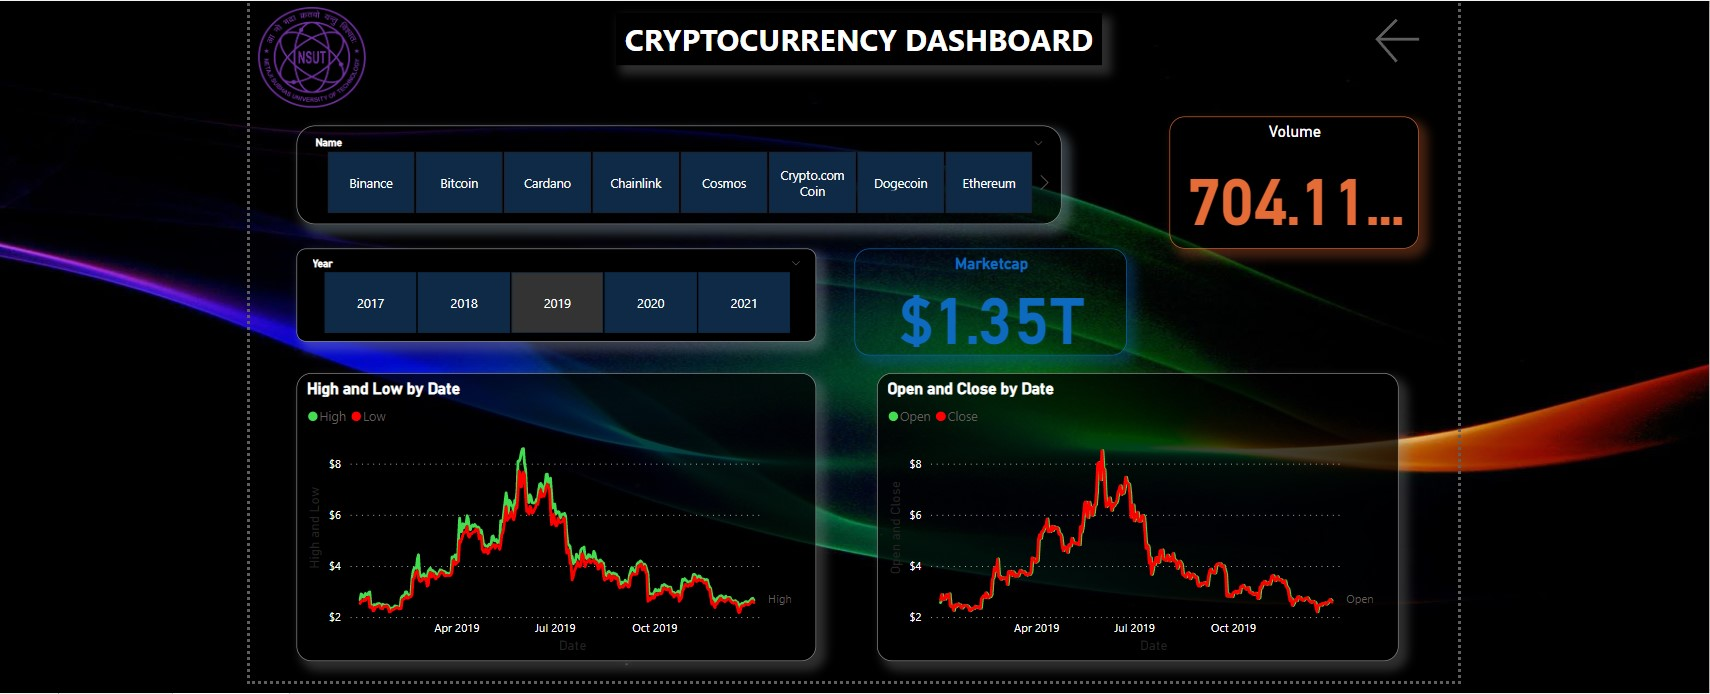

This screenshot's page, from the dashboard's own definition file:
{"tool":"powerbi","page":{"name":"Page 2","canvas":[1280,720],"ordinal":1},"visuals":[{"type":"slicer","fields":{"Values":["CryptoData.Name"]},"box":[49.3,131.9,810.6,104.9],"z":0},{"type":"slicer","fields":{"Values":["CryptoData.Year"]},"box":[50.1,262,550.7,98.5],"z":1000},{"type":"image","box":[0,0,131.9,119.2],"z":2000},{"type":"textbox","box":[387.8,12.7,515,55.6],"z":3000},{"type":"actionButton","box":[1187.3,12.7,58.8,58.8],"z":4000},{"type":"card","title":"Volume","fields":{"Values":["Sum(CryptoData.Volume)"]},"box":[974.6,121.8,263.7,140.2],"z":5000},{"type":"card","title":"Marketcap","fields":{"Values":["Sum(CryptoData.Marketcap)"]},"box":[640.8,262,288.7,113.5],"z":6000},{"type":"lineChart","fields":{"Category":["CryptoData.Date"],"Y":["Sum(CryptoData.High)","Sum(CryptoData.Low)"]},"box":[50.1,393.8,550.7,305.4],"z":7000},{"type":"lineChart","fields":{"Category":["CryptoData.Date"],"Y":["Sum(CryptoData.Open)","Sum(CryptoData.Close)"]},"box":[664.2,393.8,552.4,305.4],"z":8000}]}

Visuals, with their boxes on the page's 1280x720 design canvas (x1, y1, x2, y2). These are canvas units, not pixel positions in the 1710x694 screenshot, which may show the page scaled, cropped or inside an application window:
slicer - CryptoData.Name: region(49, 132, 860, 237)
slicer - CryptoData.Year: region(50, 262, 601, 360)
image: region(0, 0, 132, 119)
textbox: region(388, 13, 903, 68)
actionButton: region(1187, 13, 1246, 72)
"Volume" card: region(975, 122, 1238, 262)
"Marketcap" card: region(641, 262, 930, 376)
lineChart - CryptoData.Date x Sum(CryptoData.High): region(50, 394, 601, 699)
lineChart - CryptoData.Date x Sum(CryptoData.Open): region(664, 394, 1217, 699)
